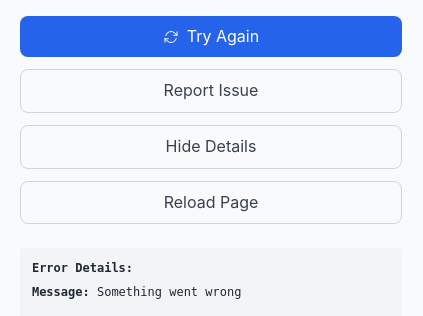
Test: EmailErrorBoundary › Error Details › should toggle error details visibility
Click the button "Hide Details": (211, 147) [20,125,402,169]
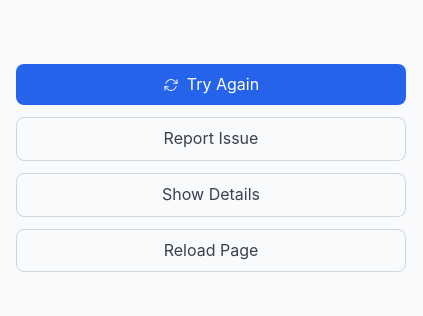
Check: the text "Something went wrong" is gone
Check: the button "Show Details" is shown, box [16,173,406,217]
